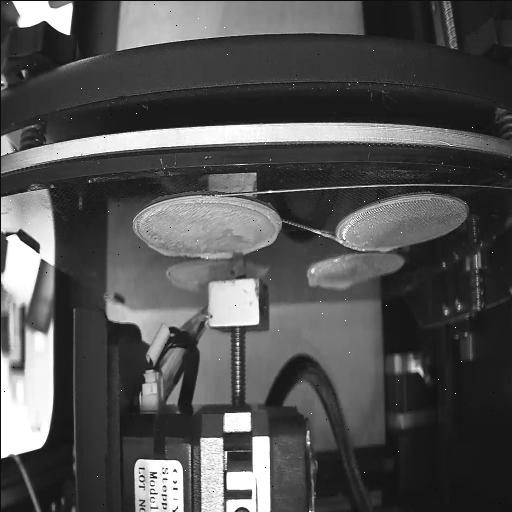over_extrusion: (236, 194, 279, 254), (305, 270, 351, 292), (199, 249, 233, 263), (164, 260, 173, 281), (377, 244, 393, 253)
